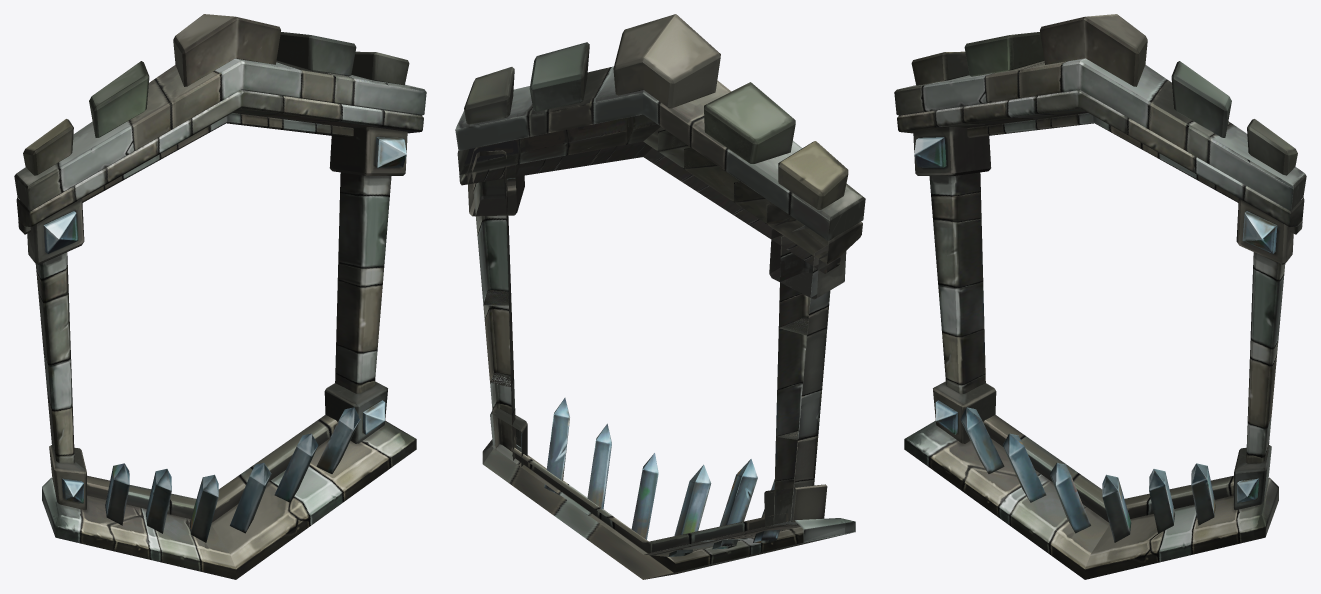
Rendered from heavy_frame.FBX.
The picture shows the model from 3 angles, left to right: view 1: azimuth 30°, elevation 25°; view 2: azimuth 150°, elevation 25°; view 3: azimuth 330°, elevation 25°; orthographic projection.
Visible parts, largest first — view 1: heavy_lower_01, heavy_upper_c_03, heavy_right_03, heavy_lower_02, heavy_right_02, heavy_corner_upper_right, heavy_left_02, heavy_upper_b_02, heavy_upper_c_02, heavy_upper_b_05, heavy_upper_c_04, heavy_upper_01 (+28 smaller); view 2: heavy_lower_01, heavy_upper_c_03, heavy_upper_c_02, heavy_upper_01, heavy_left_02, heavy_right_03, heavy_upper_c_01, heavy_upper_c_04, heavy_lower_02, heavy_left_03, heavy_left_01, heavy_upper_b_08 (+26 smaller); view 3: heavy_lower_01, heavy_left_02, heavy_upper_c_03, heavy_lower_02, heavy_upper_b_08, heavy_upper_b_05, heavy_corner_upper_left, heavy_upper_c_04, heavy_right_03, heavy_upper_c_02, heavy_upper_01, heavy_corner_upper_right (+28 smaller).
Part boxes in pixels (<box>): heavy_lower_01: <box>42,421,416,579</box>; heavy_upper_c_03: <box>173,14,280,86</box>; heavy_right_03: <box>338,172,391,267</box>; heavy_lower_02: <box>87,415,337,522</box>; heavy_right_02: <box>336,262,384,352</box>; heavy_corner_upper_right: <box>329,127,407,175</box>; heavy_left_02: <box>38,293,72,410</box>; heavy_upper_b_02: <box>58,120,134,192</box>; heavy_upper_c_02: <box>89,61,149,137</box>; heavy_upper_b_05: <box>214,58,302,100</box>; heavy_upper_c_04: <box>276,32,356,76</box>; heavy_upper_01: <box>18,113,353,234</box>; heavy_lower_01: <box>482,439,855,579</box>; heavy_upper_c_03: <box>613,14,720,108</box>; heavy_upper_c_02: <box>704,82,795,163</box>; heavy_upper_01: <box>459,123,840,273</box>; heavy_left_02: <box>776,319,827,439</box>; heavy_right_03: <box>471,150,510,306</box>; heavy_upper_c_01: <box>778,141,848,209</box>; heavy_upper_c_04: <box>529,42,589,111</box>; heavy_lower_02: <box>511,447,788,555</box>; heavy_left_03: <box>778,225,832,335</box>; heavy_left_01: <box>773,431,818,525</box>; heavy_upper_b_08: <box>455,86,532,150</box>; heavy_lower_01: <box>904,421,1278,579</box>; heavy_left_02: <box>933,218,984,336</box>; heavy_upper_c_03: <box>1040,14,1147,86</box>; heavy_lower_02: <box>983,415,1233,522</box>; heavy_upper_b_08: <box>1208,123,1306,210</box>; heavy_upper_b_05: <box>1061,58,1166,129</box>; heavy_corner_upper_left: <box>913,127,991,175</box>; heavy_upper_c_04: <box>1171,61,1231,137</box>; heavy_right_03: <box>1250,252,1285,347</box>; heavy_upper_c_02: <box>964,32,1044,76</box>; heavy_upper_01: <box>967,113,1302,234</box>; heavy_corner_upper_right: <box>1236,198,1293,264</box>.
Bounding box in the file's own units: 2.66 × 3.59 × 0.4533.
Materials: 1 (1 with a texture image).
